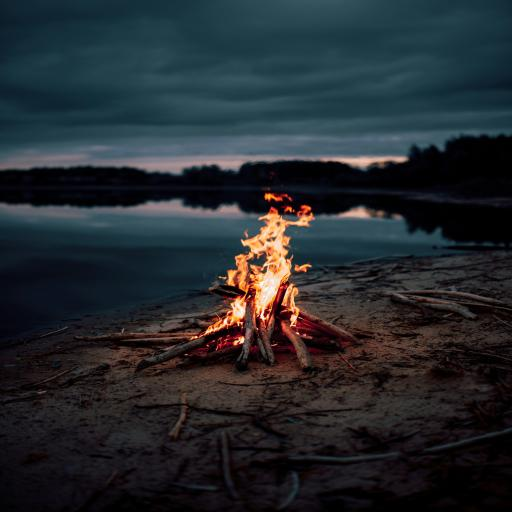campfire: (184, 190, 353, 371)
